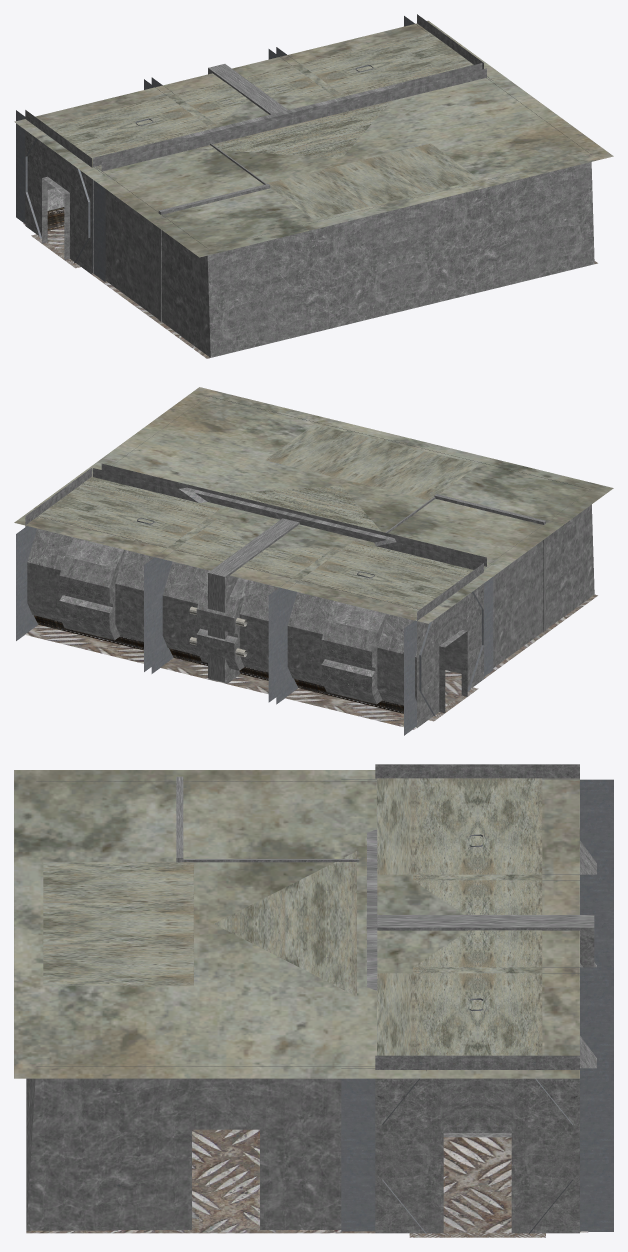
Rendered from NewServers.fbx.
3 renders of one model, top to bottom at view 1: azimuth 30°, elevation 25°; view 2: azimuth 150°, elevation 25°; view 3: azimuth 270°, elevation 25°, orthographic. The views are drawn at different scales.
Parts seen in each view (by area): view 1: _096, Floor__1_, Cube, Cube.002, Floor; view 2: _096, Floor__1_, Floor, Cube, Cube.002; view 3: _096, Floor__1_, Floor, Cube, Cube.001, Cube.002.
Part boxes in pixels (bbox=[...]): _096: bbox=[16, 14, 597, 358]; Floor__1_: bbox=[14, 20, 613, 257]; Cube: bbox=[208, 64, 287, 114]; Cube.002: bbox=[158, 184, 270, 321]; Floor: bbox=[23, 223, 180, 336]; _096: bbox=[16, 396, 597, 735]; Floor__1_: bbox=[14, 387, 613, 623]; Floor: bbox=[25, 616, 567, 729]; Cube: bbox=[208, 518, 299, 683]; Cube.002: bbox=[434, 494, 545, 631]; _096: bbox=[26, 764, 613, 1237]; Floor__1_: bbox=[14, 770, 579, 1078]; Floor: bbox=[118, 1129, 588, 1232]; Cube: bbox=[366, 915, 594, 967]; Cube.001: bbox=[180, 859, 359, 862]; Cube.002: bbox=[176, 776, 183, 862].
Size of the model in its own units: 2142 by 584 by 1760.
Materials: 19 (19 with a texture image).
